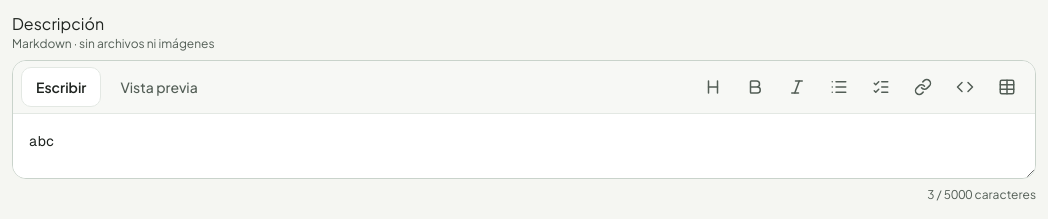
Test: MarkdownEditor › shows the counter
Check: the text "3 / 5000 caracteres" is shown, box [927,187,1036,202]
Type "de" into the text box labelled "Descripción" at [524, 146], box [13,114,1035,178]
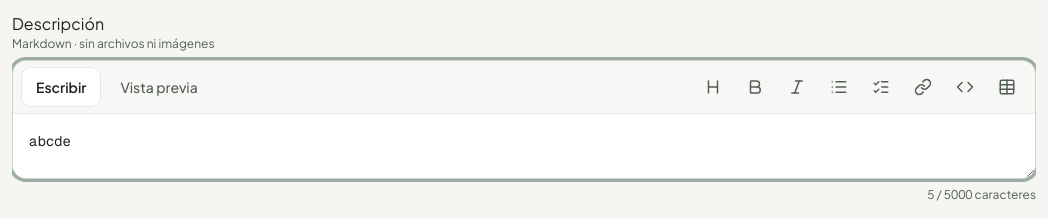
Check: the text "5 / 5000 caracteres" is shown, box [927,187,1036,202]
